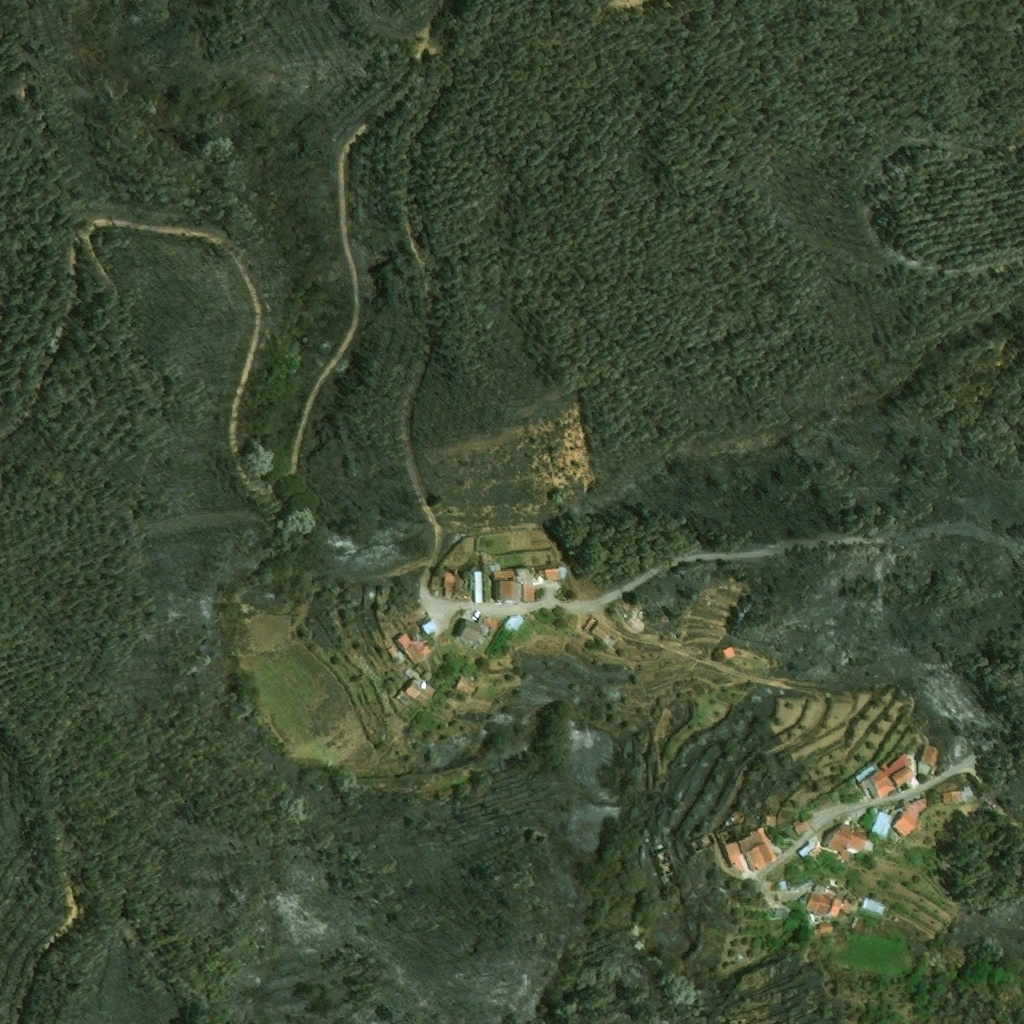0 no-damage: (739, 827, 776, 870), (892, 797, 928, 836), (828, 824, 867, 854), (867, 769, 896, 797), (402, 677, 435, 701), (803, 892, 831, 918), (870, 808, 894, 837), (457, 618, 483, 643), (627, 609, 652, 633), (798, 836, 822, 859), (500, 613, 526, 633), (592, 620, 615, 642), (890, 765, 915, 785), (859, 897, 885, 916), (500, 579, 522, 601), (392, 632, 413, 654), (444, 566, 457, 598), (543, 562, 567, 579), (922, 744, 939, 766), (416, 617, 436, 635), (405, 644, 423, 662), (473, 571, 483, 602), (792, 818, 810, 835), (943, 789, 962, 803), (826, 899, 840, 917), (484, 615, 500, 630), (494, 568, 513, 577), (524, 583, 534, 600), (419, 643, 432, 655), (724, 646, 735, 660), (769, 910, 783, 921), (763, 814, 776, 825), (815, 925, 830, 934)
2 major-damage: (720, 829, 744, 865)
3 destroyed: (687, 831, 721, 866)
4 un-classified: (730, 810, 745, 823)
